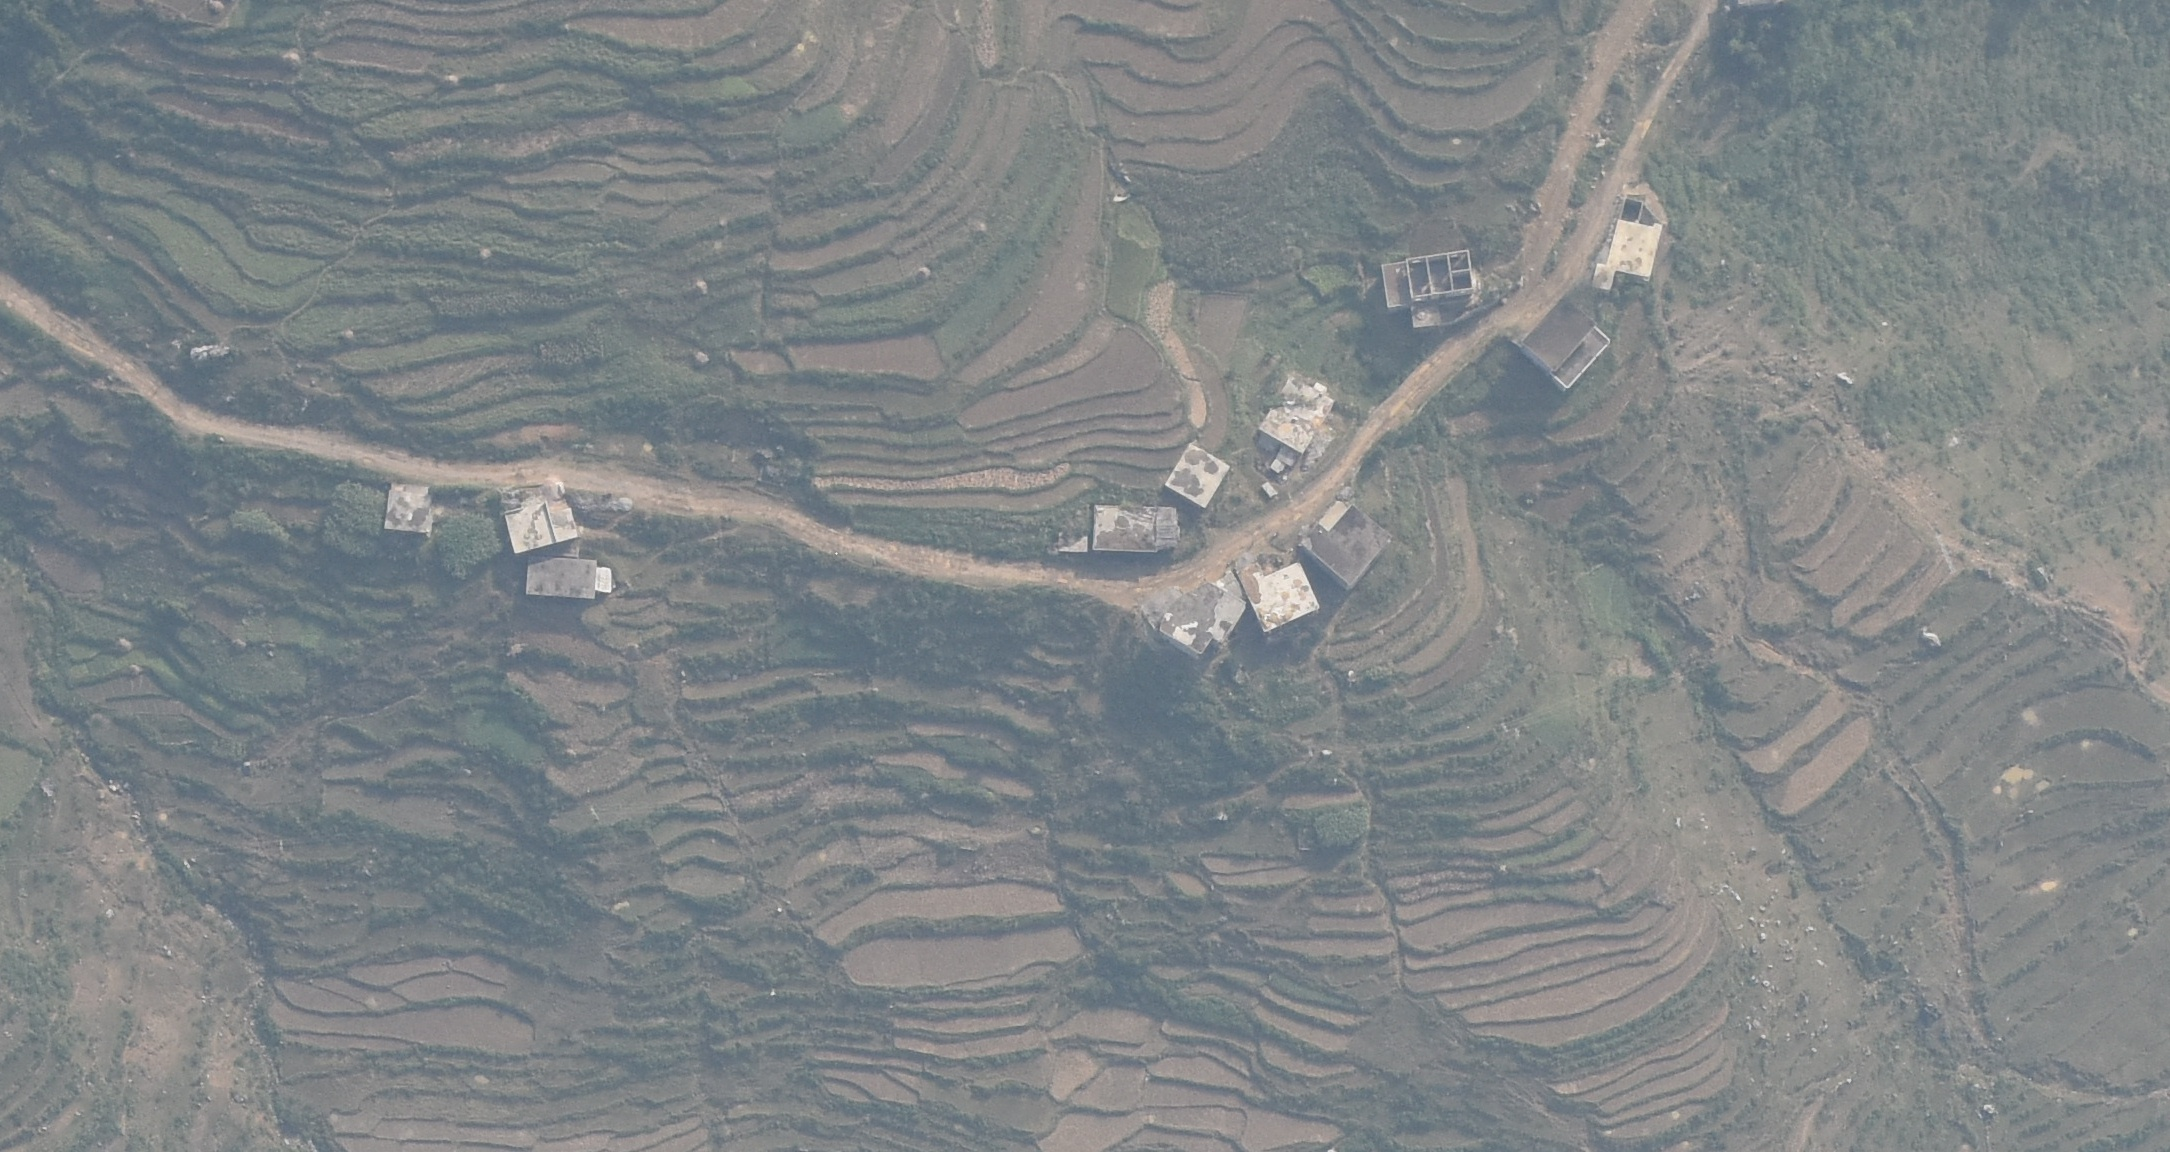building: (1142, 575, 1254, 658), (1381, 247, 1497, 320), (1299, 501, 1399, 585), (1524, 298, 1613, 393), (1256, 373, 1339, 458), (1592, 197, 1665, 293), (1236, 560, 1320, 628), (504, 481, 583, 551), (1091, 501, 1183, 557), (1162, 442, 1234, 509), (524, 551, 614, 600), (382, 479, 433, 537)
